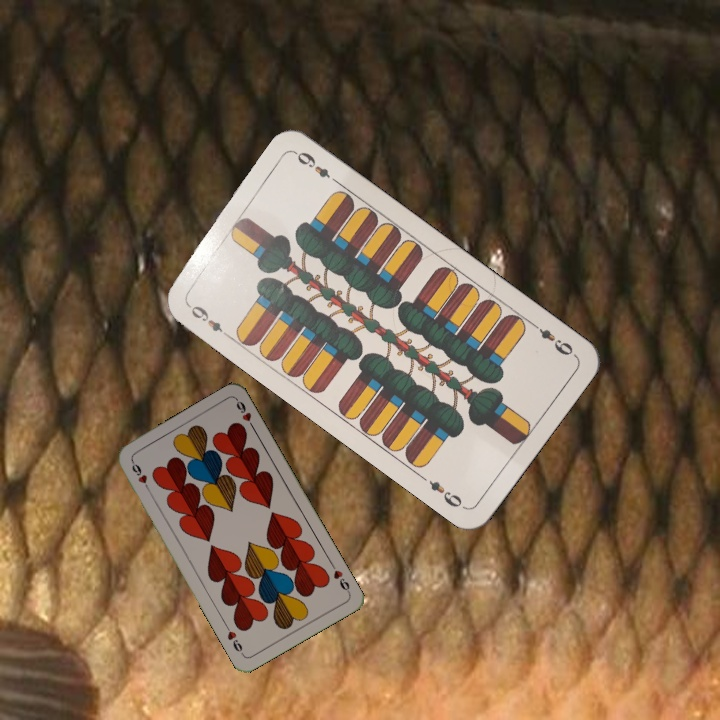E9: (182, 299, 232, 340), (527, 318, 576, 359)
H9: (127, 456, 153, 494), (327, 559, 353, 596)
